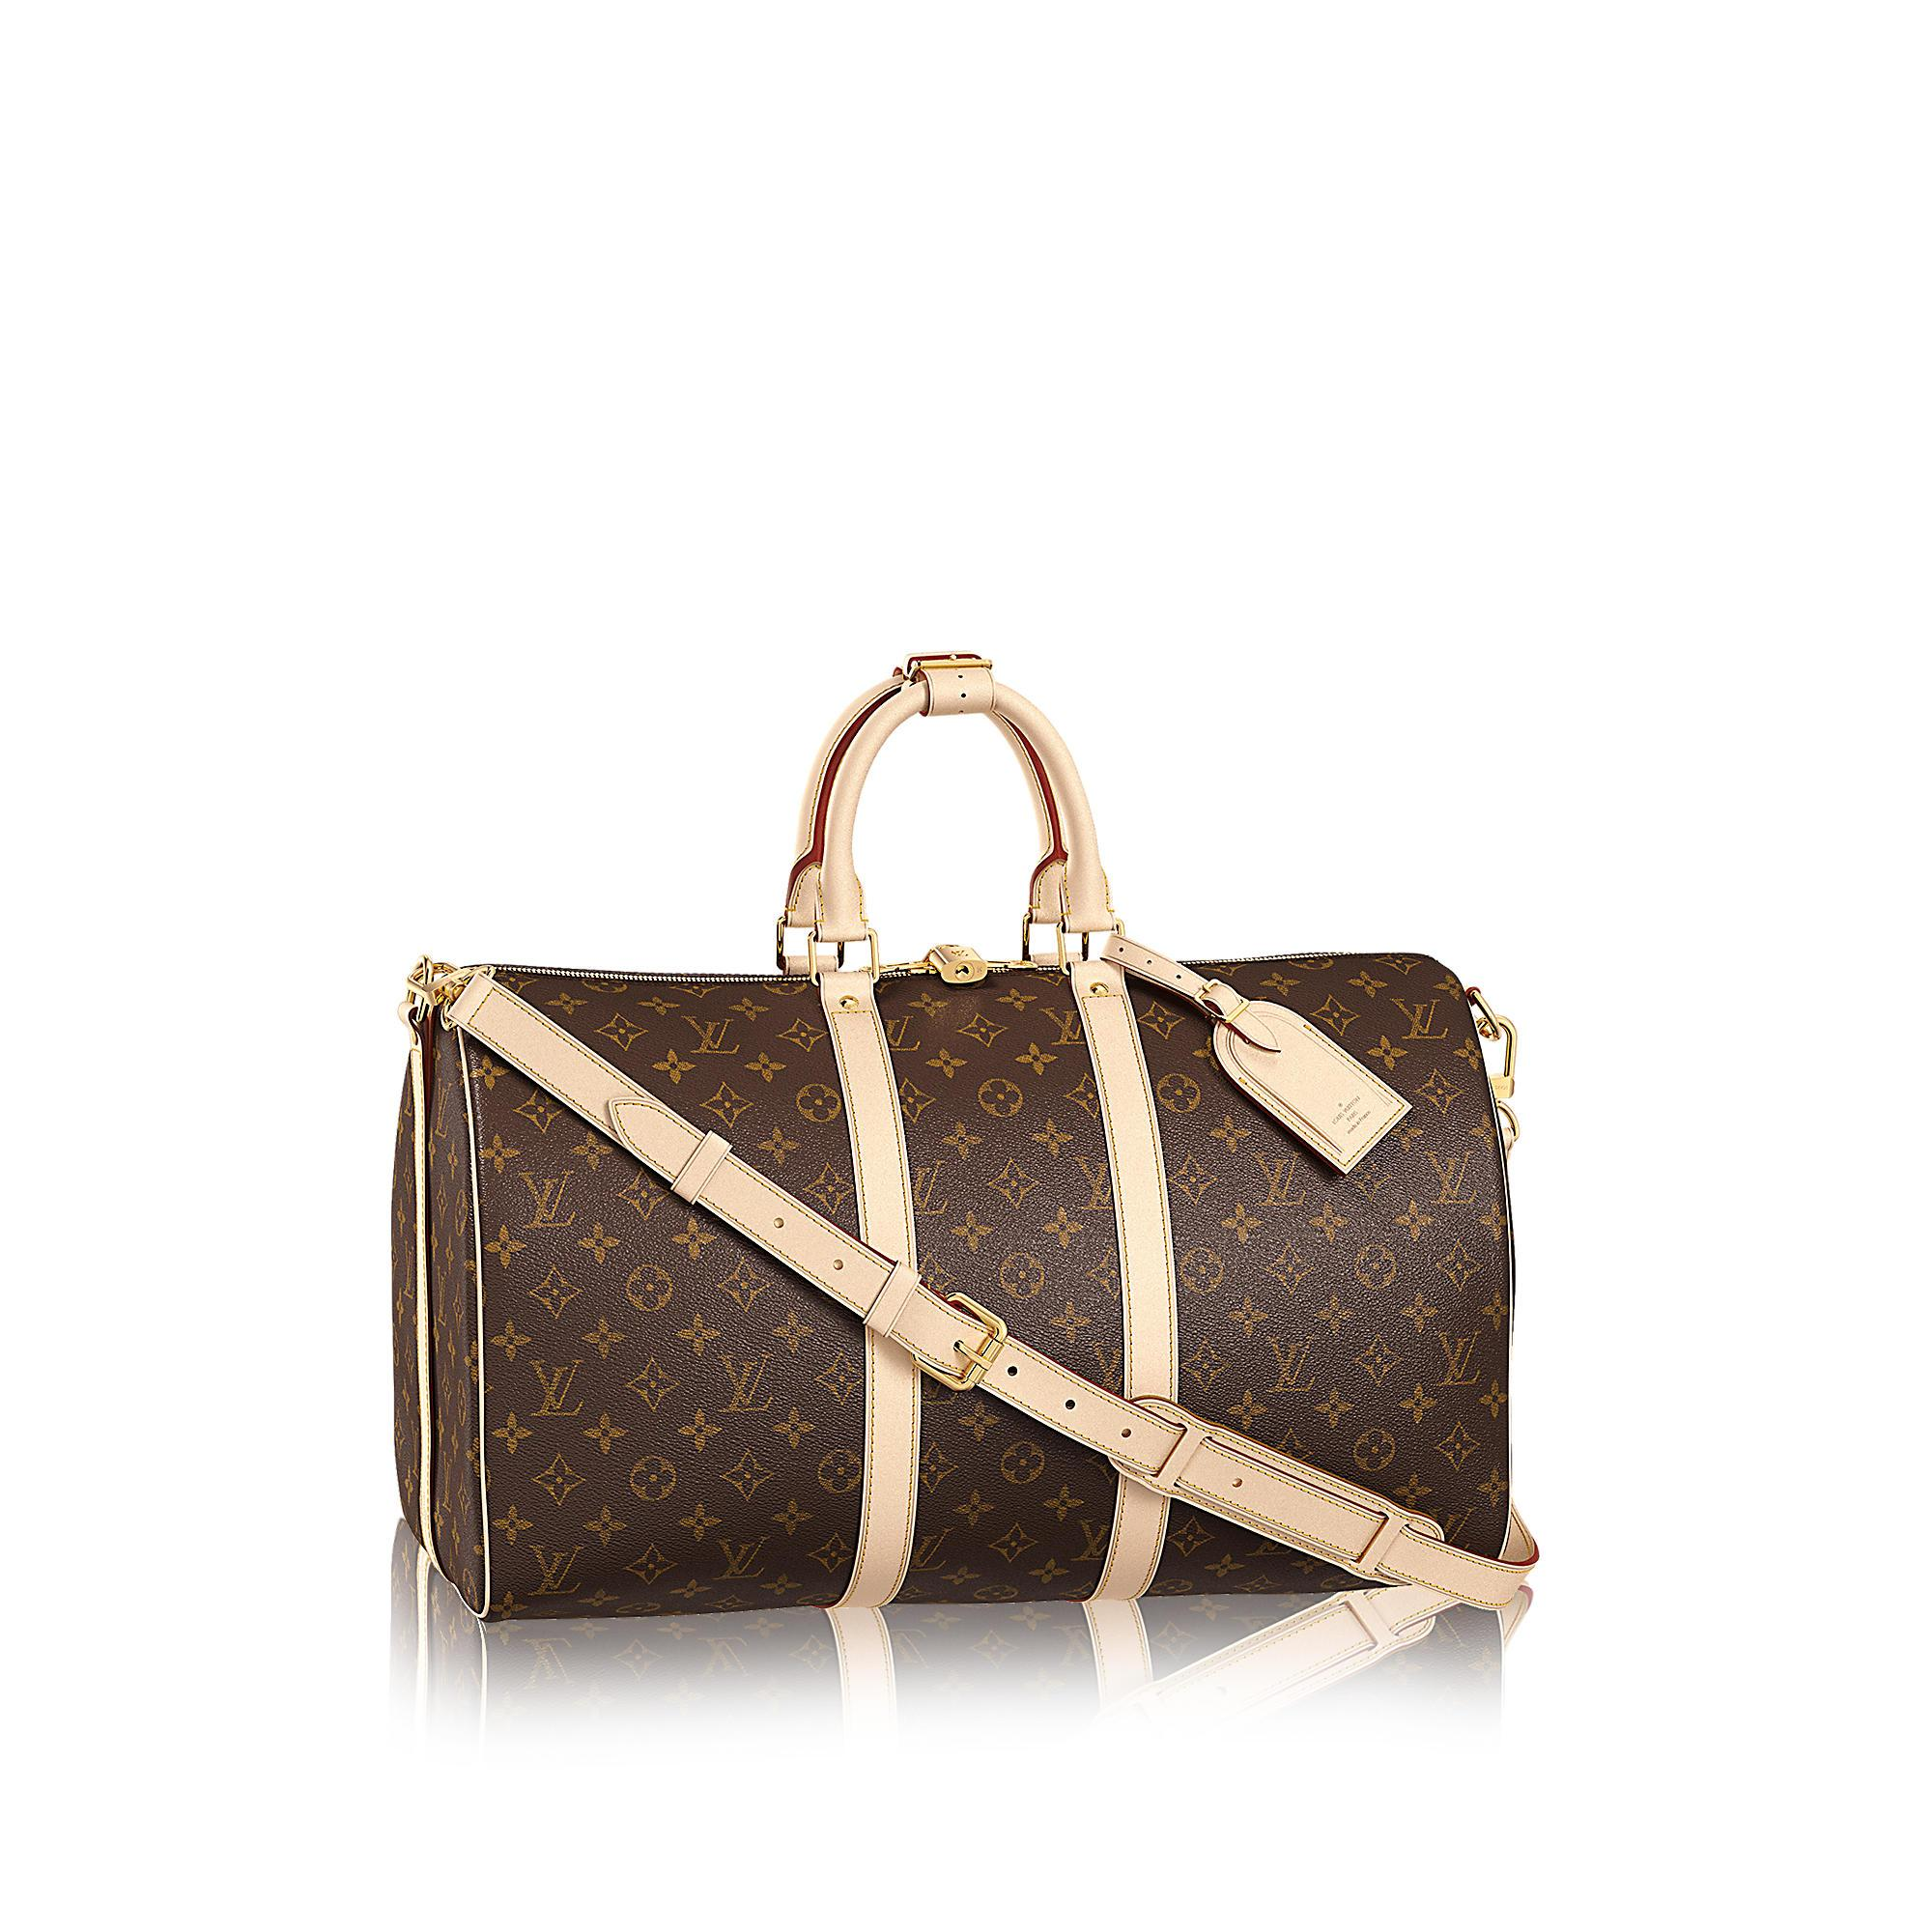LOUIS-VUITTON: (518, 1352, 591, 1421), (1242, 1143, 1315, 1210), (709, 1345, 773, 1417), (1424, 1322, 1486, 1387), (515, 1168, 575, 1235), (1415, 1143, 1474, 1208), (522, 1537, 582, 1598), (1263, 1332, 1322, 1394), (706, 1532, 771, 1583), (681, 1010, 743, 1063), (1387, 993, 1447, 1039), (1035, 1001, 1088, 1053), (1074, 1516, 1109, 1564)
